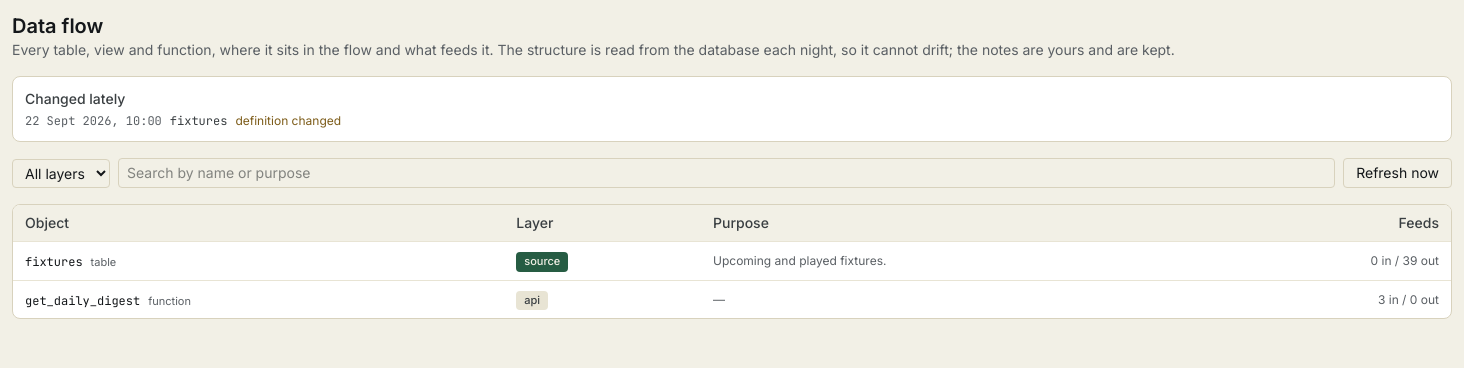
Test: Data flow page › can re-derive the flow on demand and says whether anything moved
The image size is (1464, 368).
Check: the table is shown, box [13,205,1451,318]
Click the button "Refresh now". click: point(1398, 173)
box: [1343,158,1452,188]
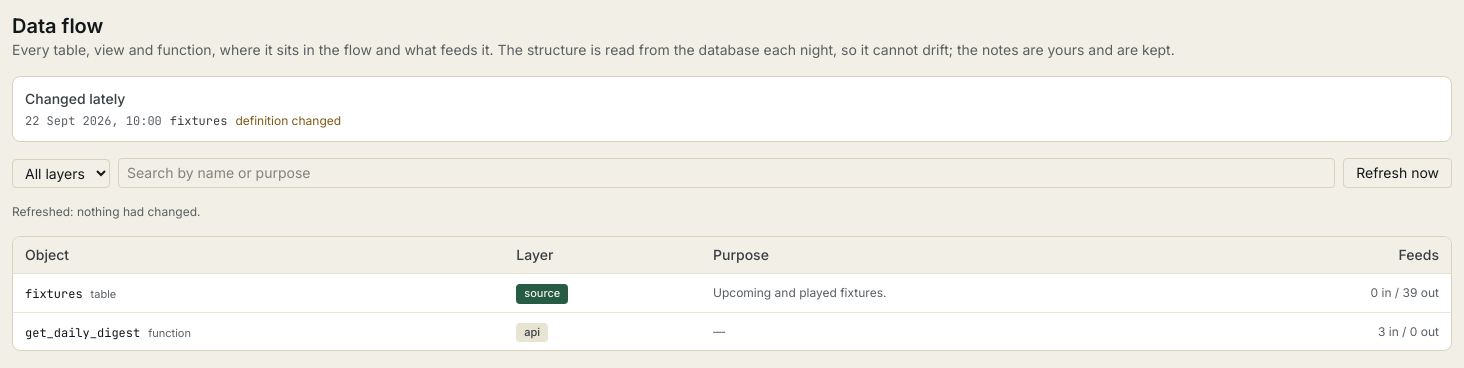
Check: the text "Refreshed: nothing had changed." is shown, box [12,204,200,219]
